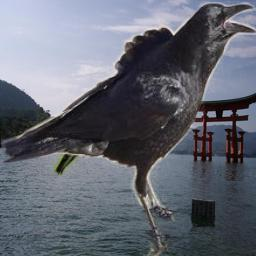Crow: (1, 1, 256, 256)
Swallow: (53, 105, 98, 176)
